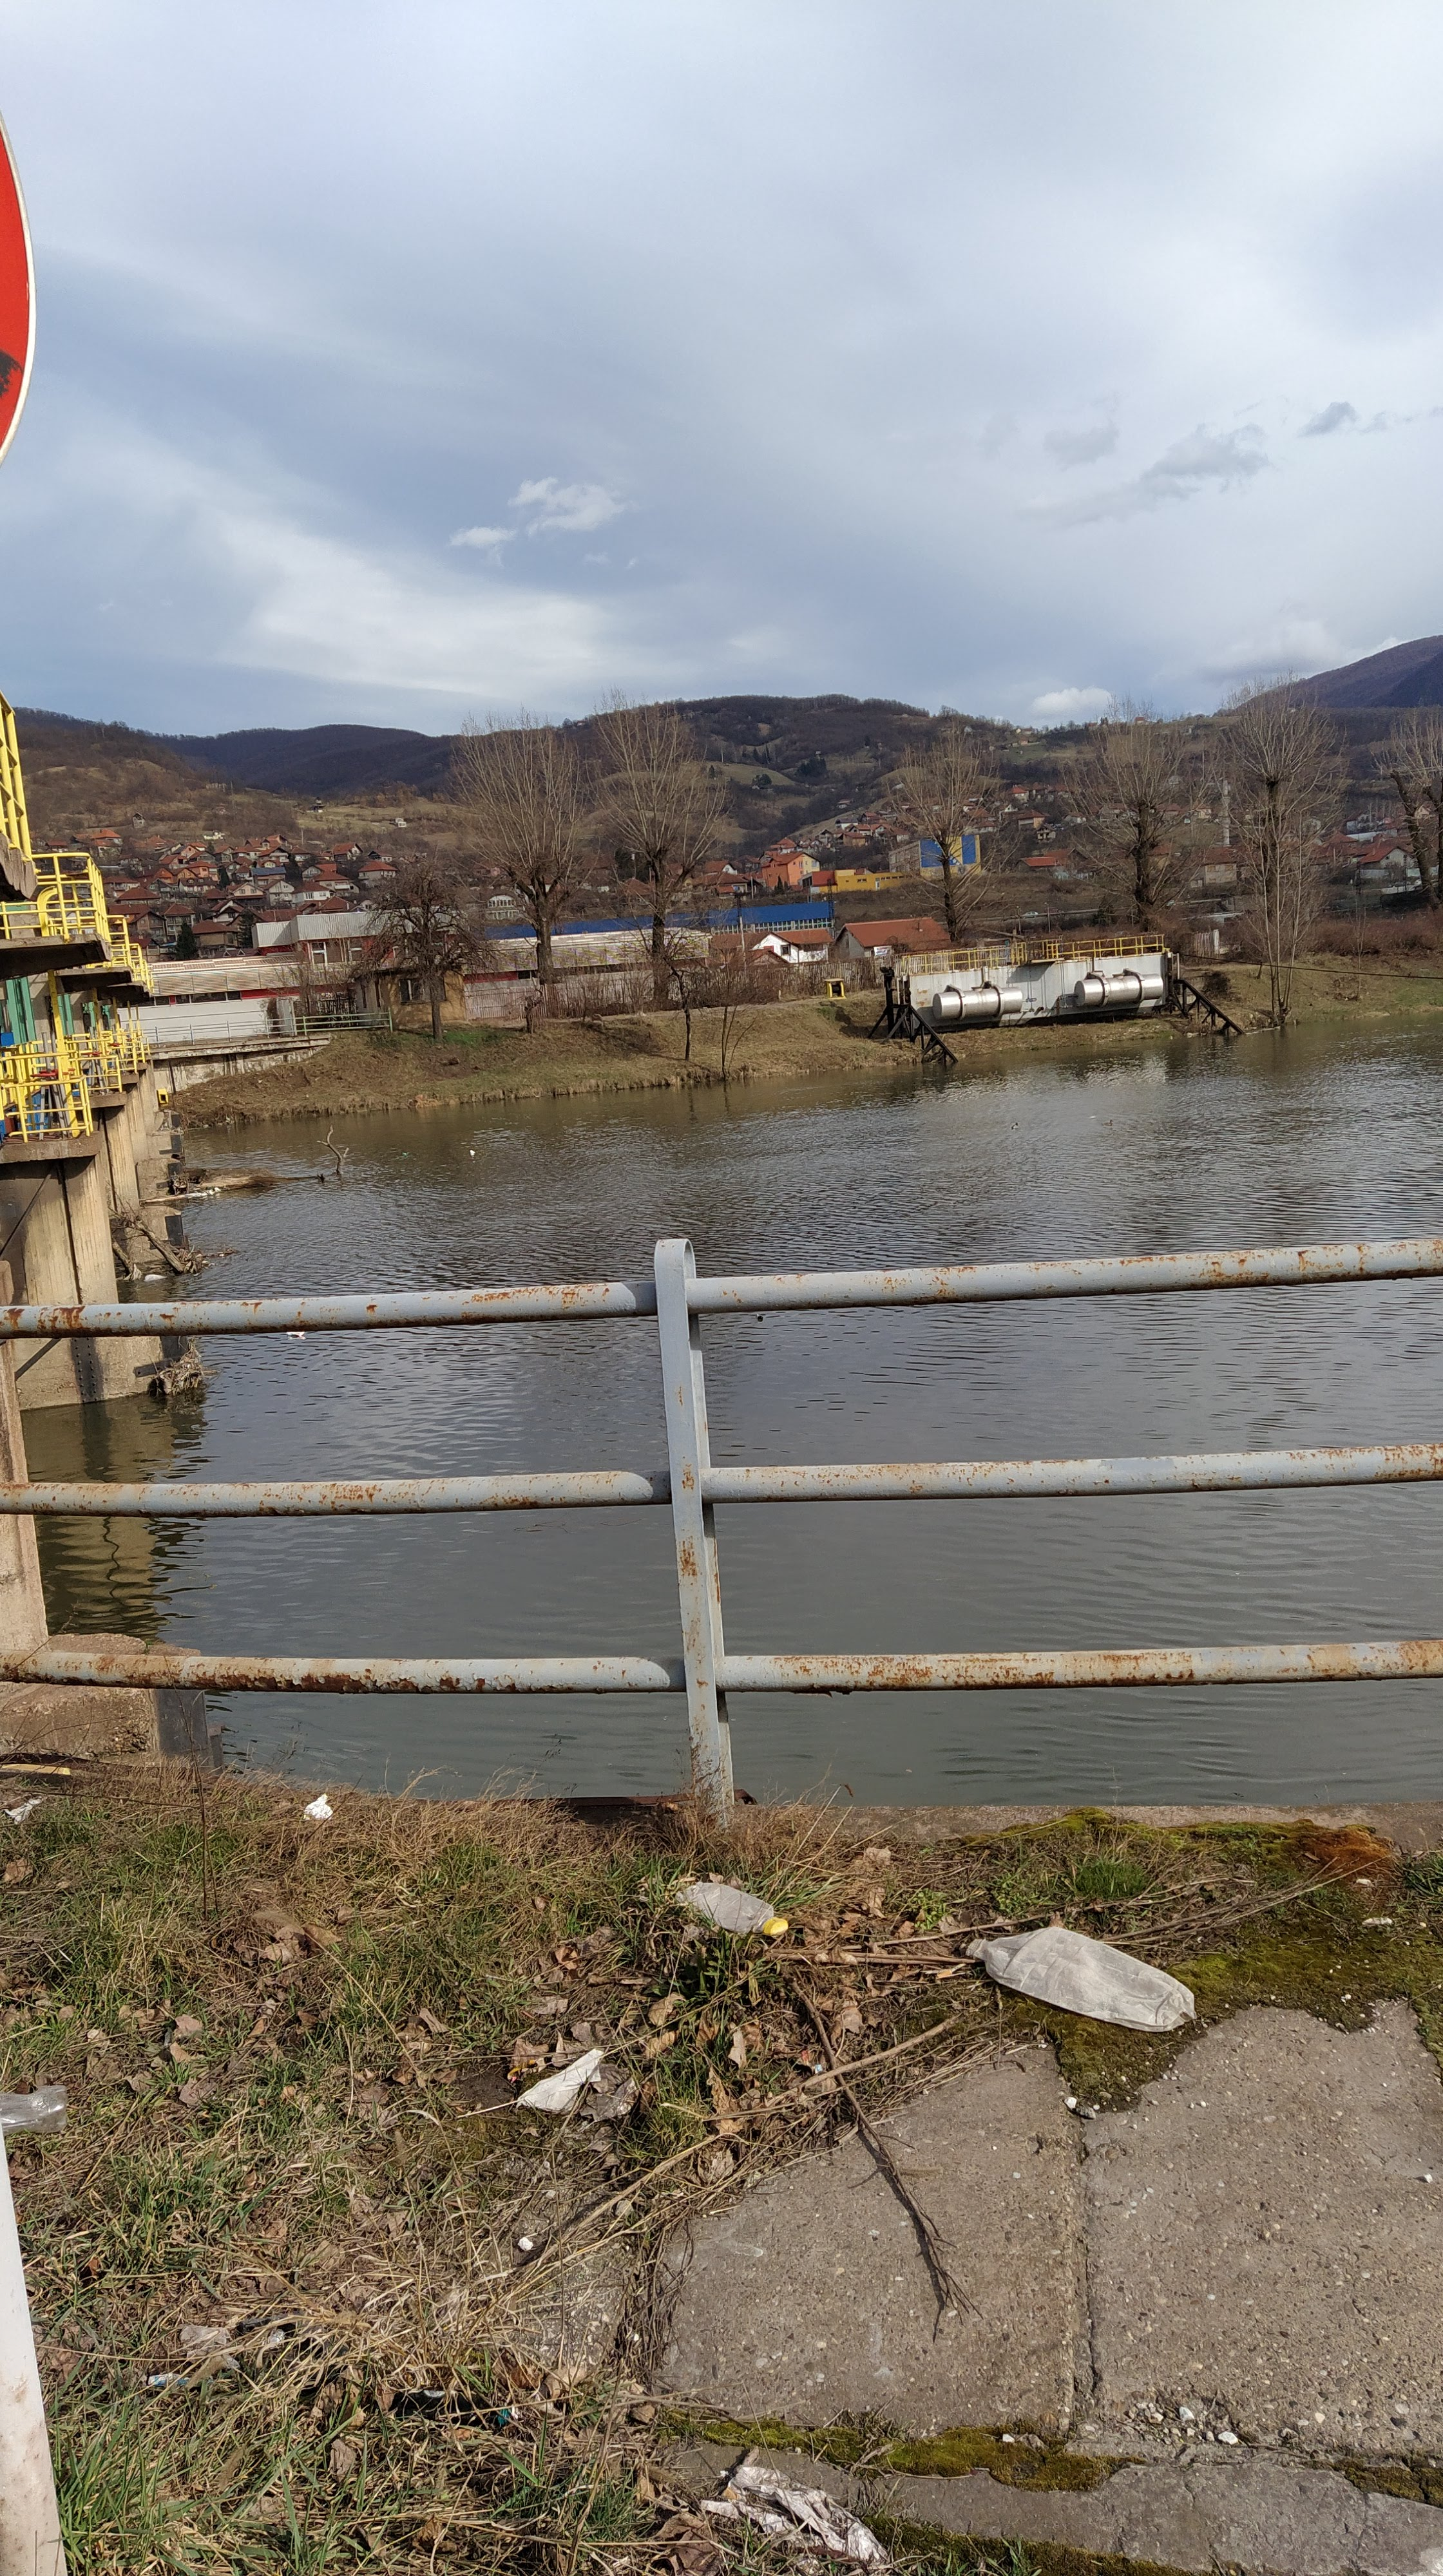Plastic Bottle: (287, 1330, 305, 1336), (402, 1152, 407, 1157), (471, 1150, 475, 1155)
